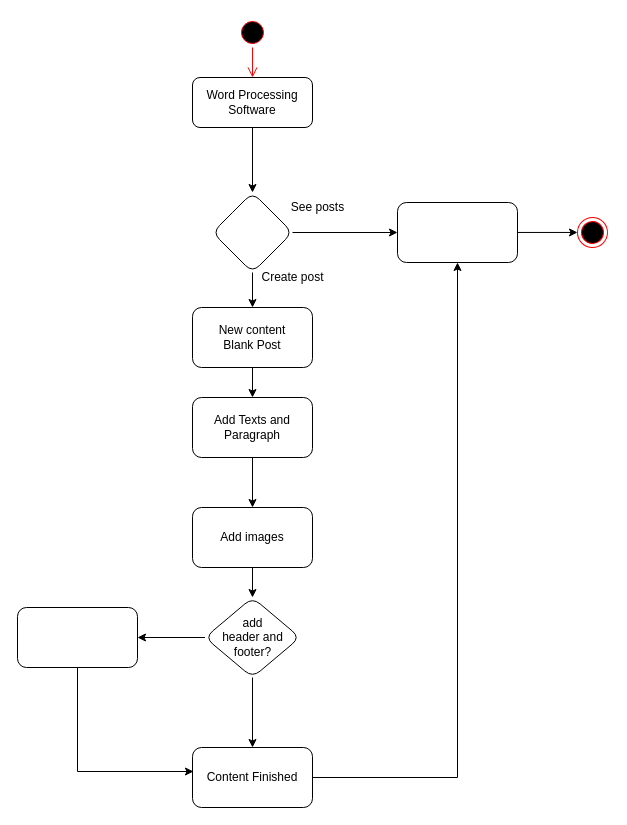
This 627x825 diagram has some shape labels left out. The shapes that lost their labels are listed below. From the top down, each one's centre as x and y in pixels, then its label:
(x=252, y=232): User Activity
(x=457, y=232): View Content
(x=77, y=637): Add header and footer
